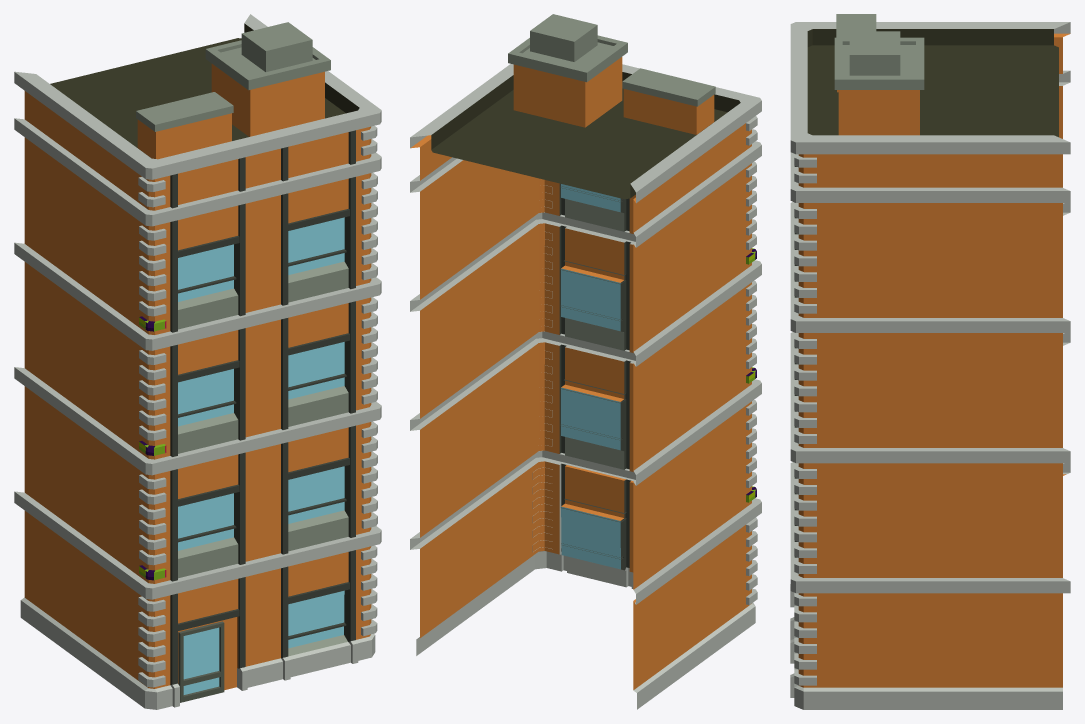
The model's file is House6.3.fbx.
3 views of the same model, side by side, from view 1: azimuth 30°, elevation 25°; view 2: azimuth 150°, elevation 25°; view 3: azimuth 270°, elevation 25° (orthographic). The views are drawn at different scales.
Parts seen in each view (by area): view 1: House3.004; view 2: House3.004; view 3: House3.004.
Part boxes in pixels (<box>): House3.004: <box>14,14,381,709</box>; House3.004: <box>410,14,761,709</box>; House3.004: <box>790,14,1070,709</box>.
Size of the model in its own units: 795 by 1950 by 782.
1 material, 1 textured.
